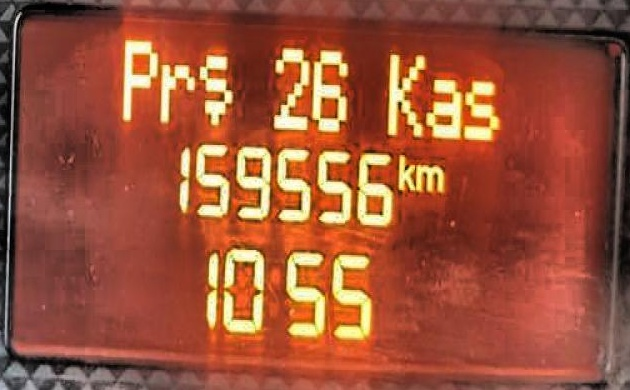0: (220, 246, 266, 335)
1: (203, 250, 218, 330), (175, 143, 191, 213)
2: (271, 45, 310, 130)
5: (329, 251, 372, 340), (284, 250, 325, 336), (313, 148, 351, 224), (273, 145, 311, 221), (194, 141, 230, 216)
6: (310, 48, 349, 131), (354, 150, 394, 226)
9: (232, 143, 271, 219)
X: (384, 51, 425, 136), (118, 38, 157, 123), (196, 53, 232, 124), (461, 78, 500, 141), (425, 76, 461, 140), (159, 61, 195, 123), (415, 161, 444, 191), (396, 153, 415, 191)
